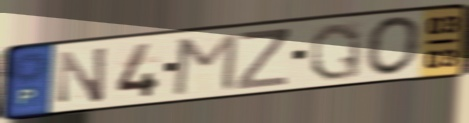4: (114, 40, 162, 100)
M: (170, 30, 241, 98)
N: (56, 44, 110, 106)
O: (364, 14, 424, 78)
Q: (308, 20, 364, 83)
Z: (234, 27, 291, 92)
